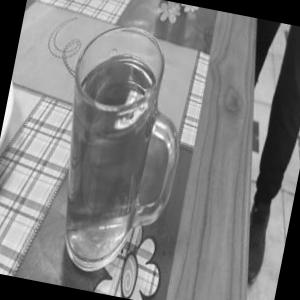tea: (26, 13, 209, 290)
